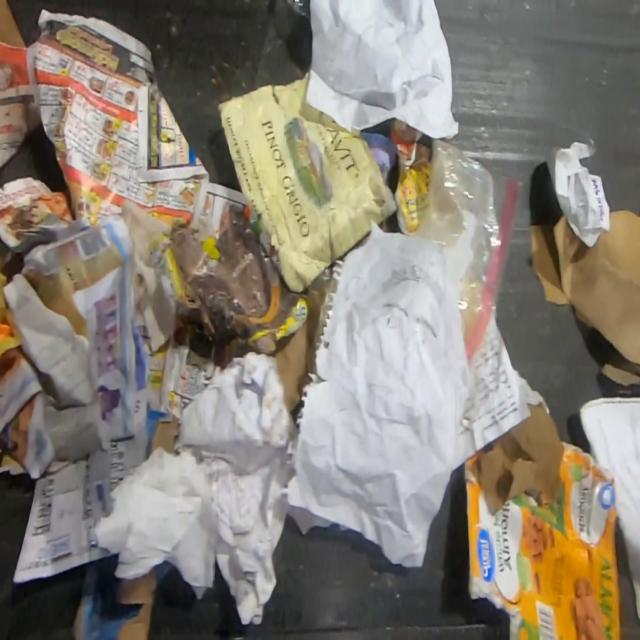cardboard: (462, 402, 622, 639), (528, 210, 639, 386), (66, 553, 175, 640), (268, 293, 325, 412), (142, 405, 182, 461)
soft_plastic: (411, 137, 519, 379)
